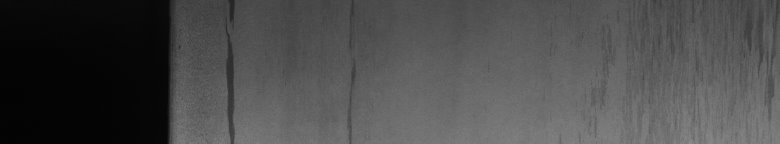hd: (224, 4, 239, 136)
